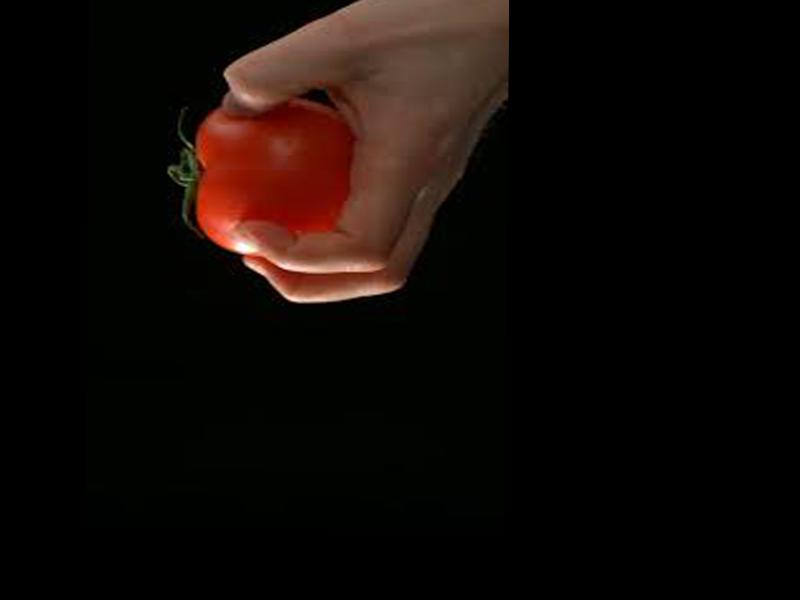Tomato: (169, 97, 348, 254)
